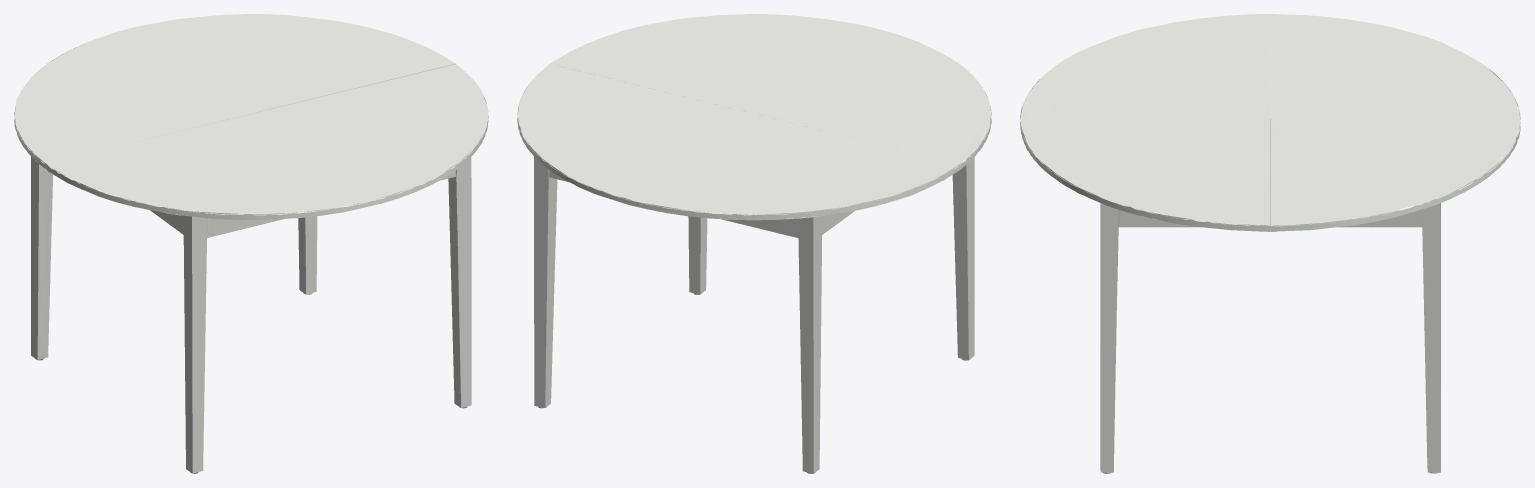
Rendered from 22 - NÄSINGE Table - white 120 cm.glb.
3 renders of one model, left to right at view 1: azimuth 30°, elevation 25°; view 2: azimuth 150°, elevation 25°; view 3: azimuth 270°, elevation 25°, orthographic. The views are drawn at different scales.
Visible parts, largest first — view 1: 50587531-NÃƒâ€žSINGE001; view 2: 50587531-NÃƒâ€žSINGE001; view 3: 50587531-NÃƒâ€žSINGE001.
Boxes of the visible parts, left/top/right/bottom form: 50587531-NÃƒâ€žSINGE001: left=14, top=14, right=488, bottom=473; 50587531-NÃƒâ€žSINGE001: left=517, top=14, right=991, bottom=473; 50587531-NÃƒâ€žSINGE001: left=1020, top=14, right=1520, bottom=473.
Bounding box in the file's own units: 1.2 × 0.751 × 1.2.
1 material, 1 textured.
